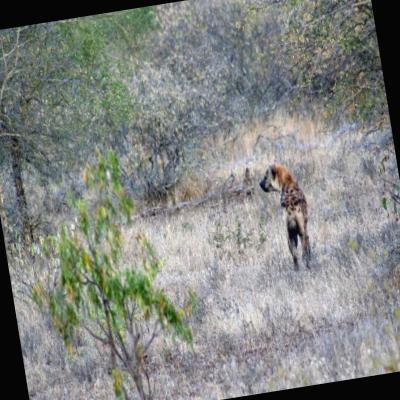hyenas: (228, 128, 346, 304)
